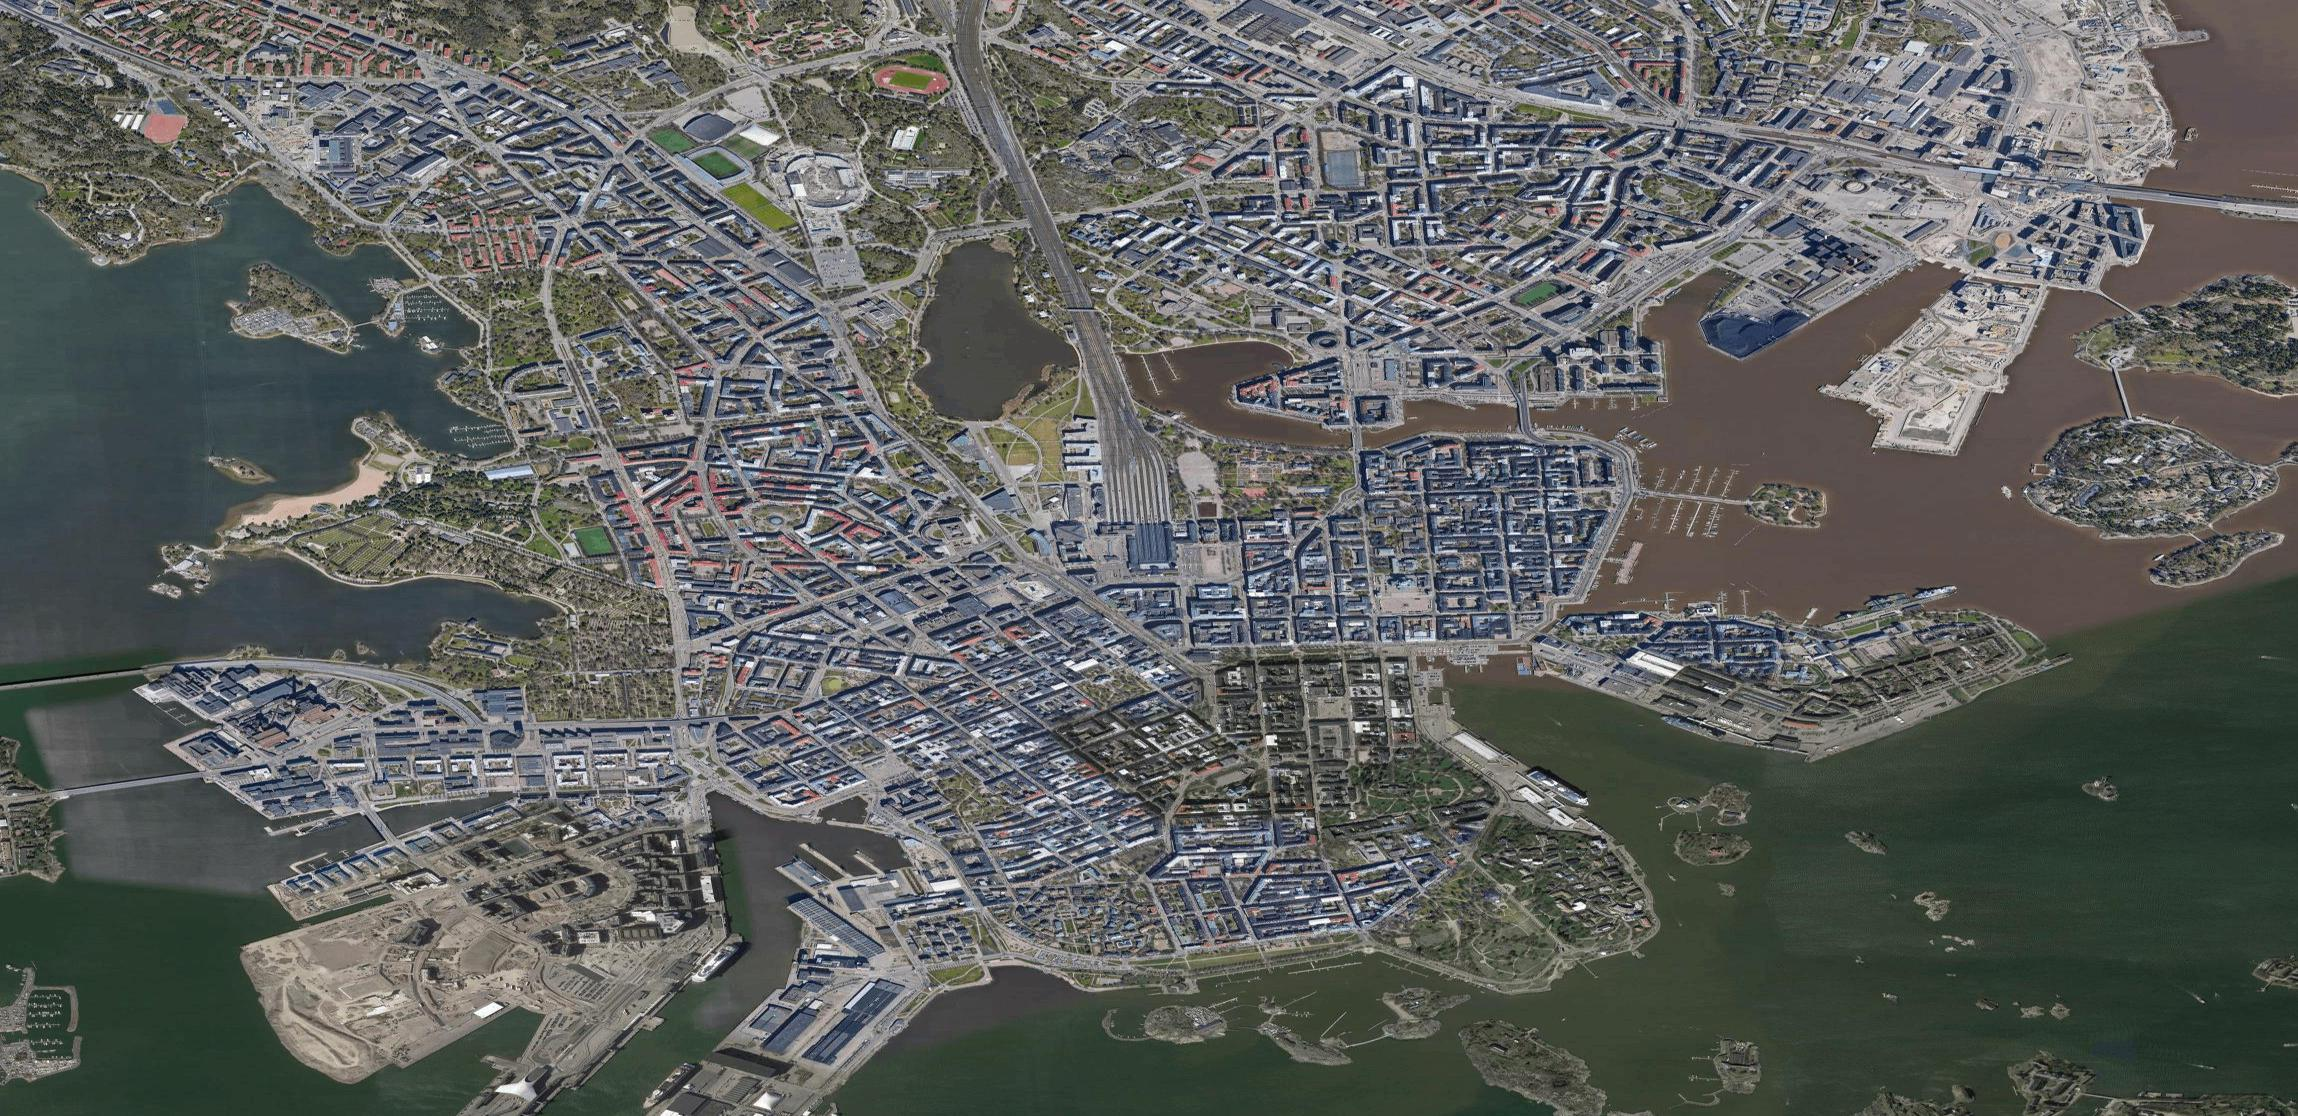bridge: (2118, 176, 2298, 227), (1, 656, 147, 695), (56, 766, 202, 804)
harbor: (1589, 419, 1954, 672)
train_station: (1071, 425, 1211, 584)
